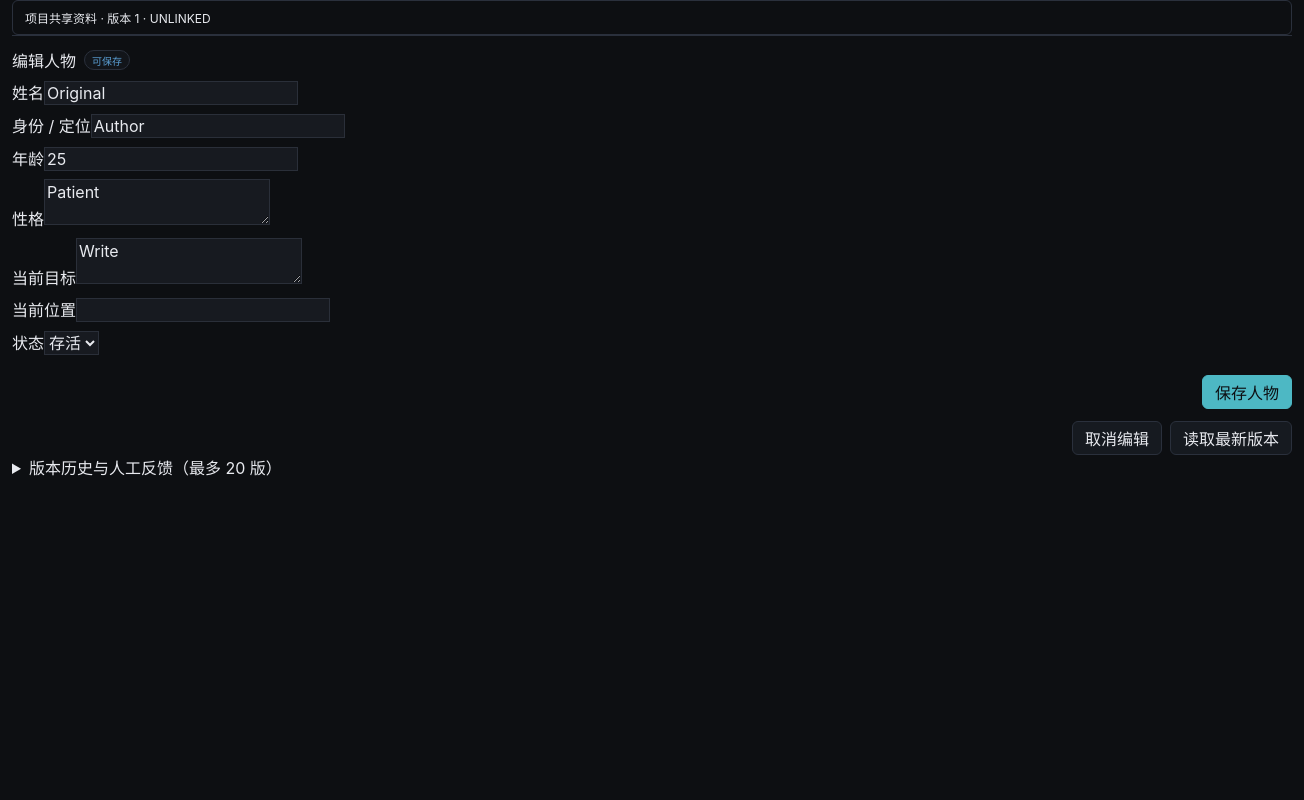
Test: disables write, restore and feedback when refreshed permissions are read-only
Expected: the field labelled "姓名" is shown, [44, 81, 298, 105]
Click the button "读取最新版本": (1231, 438) [1170, 421, 1292, 455]
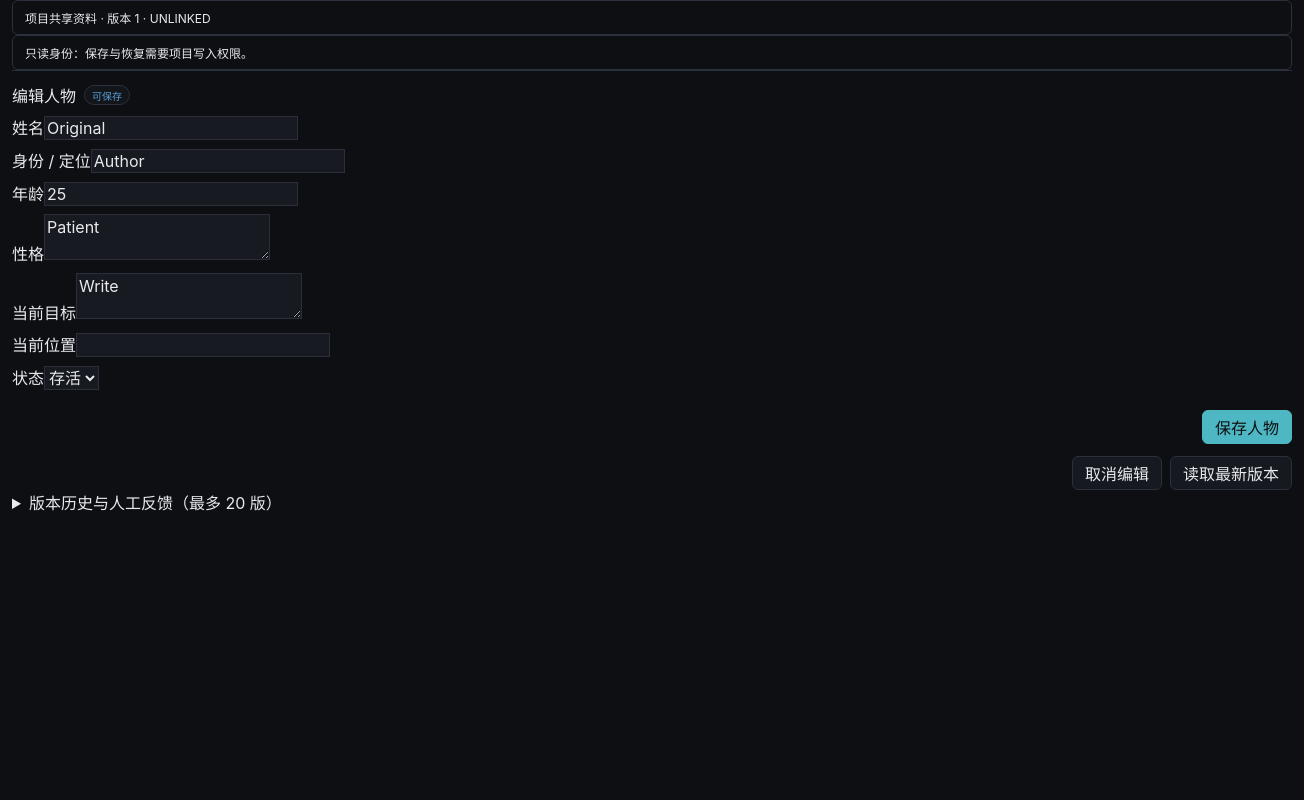
Now the text "只读身份：保存与恢复需要项目写入权限。" is shown, box [12, 35, 1292, 70]
Now the button "保存人物" is disabled, box [1202, 410, 1292, 444]
Click the heading "版本历史与人工反馈（最多 20 版）": (155, 503) [29, 493, 282, 513]
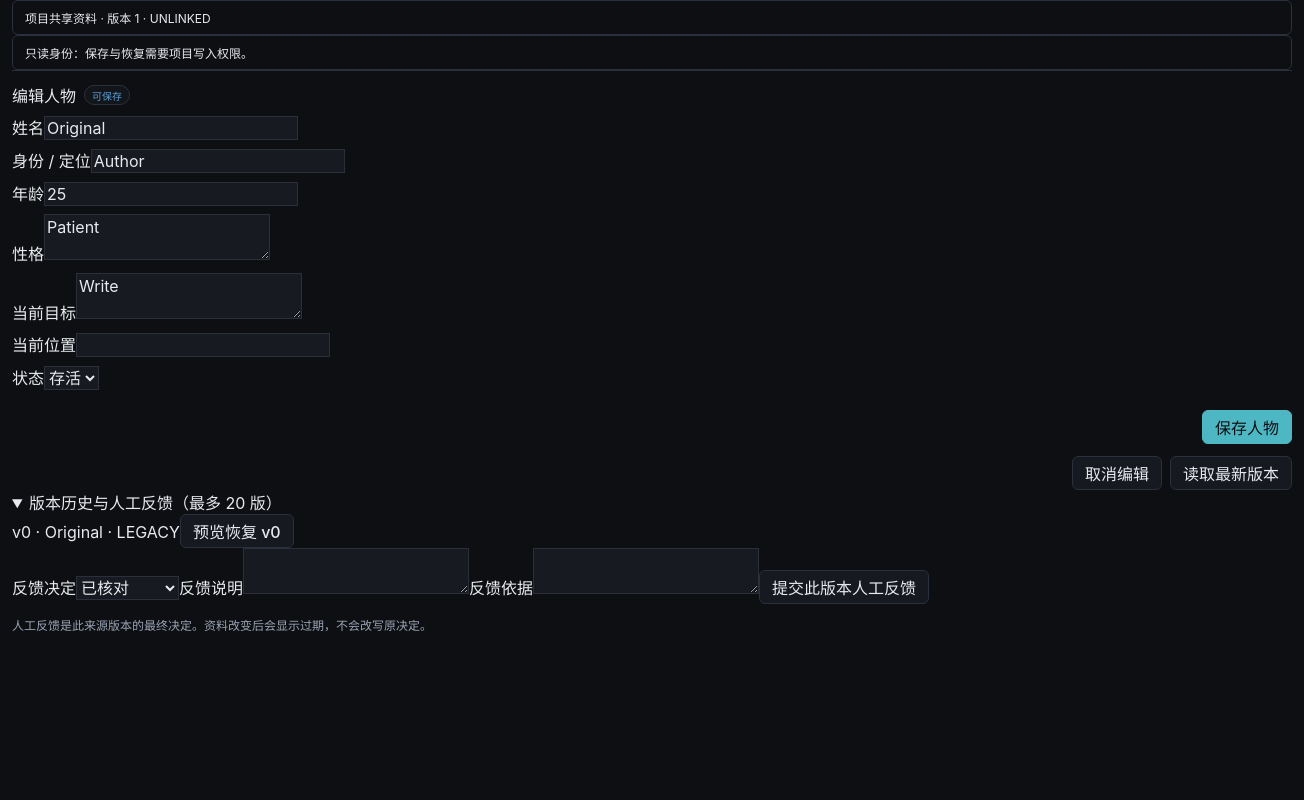
Now the button "预览恢复 v0" is disabled, box [180, 514, 294, 548]
Now the button "提交此版本人工反馈" is disabled, box [759, 570, 929, 604]
